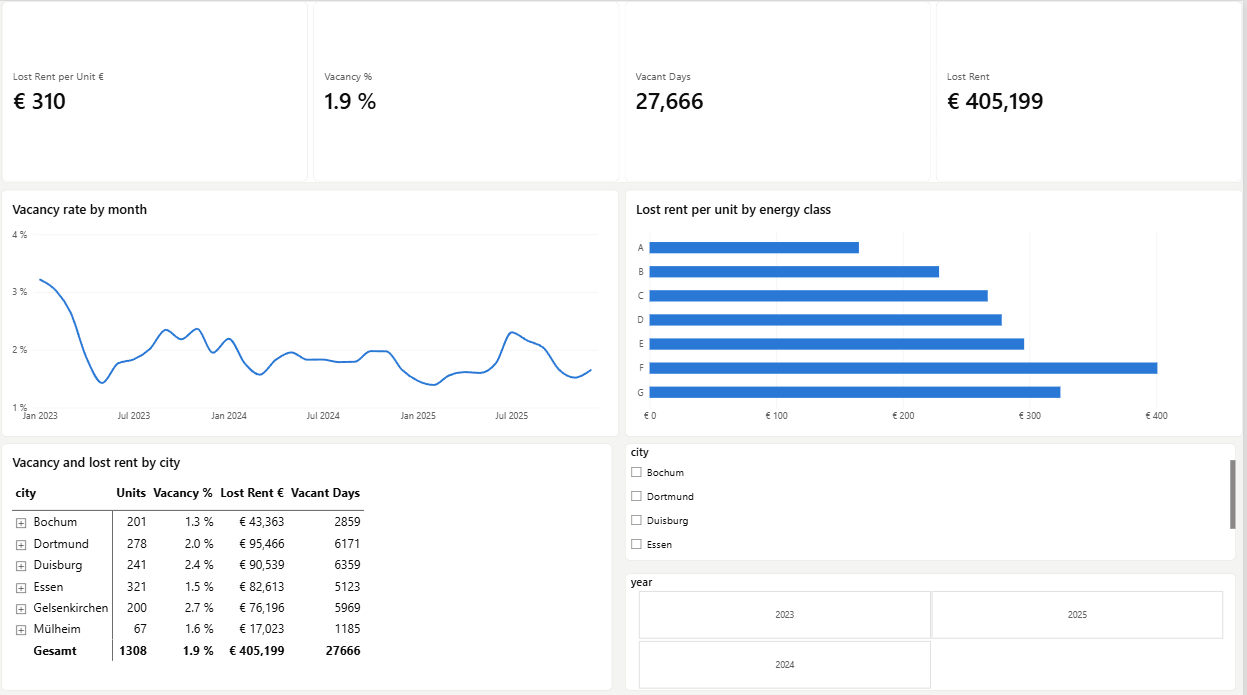

The dashboard page shown, as its layout file describes it:
{"tool":"powerbi","page":{"name":"page3_vacancy.png","canvas":[1920,1080],"ordinal":2},"visuals":[{"type":"cardVisual","fields":{"Data":["_Measures.Lost Rent per Unit €","_Measures.Vacancy %","_Measures.Vacant Days (Card)","_Measures.Lost Rent (Card)"]},"box":[10.3,0,1910.1,279.9],"z":0},{"type":"lineChart","title":"Vacancy rate by month","fields":{"Category":["dim_date.year_month"],"Y":["_Measures.Vacancy %"]},"box":[10,290,950,380],"z":1000},{"type":"barChart","title":"Lost rent per unit by energy class","fields":{"Category":["dim_property.energy_class"],"Y":["_Measures.Lost Rent per Unit €"]},"box":[970,290,950,380],"z":2000},{"type":"pivotTable","title":"Vacancy and lost rent by city","fields":{"Rows":["dim_property.city","dim_property.district"],"Values":["_Measures.Units","_Measures.Vacancy %","_Measures.Lost Rent €","_Measures.Vacant Days"]},"box":[10,680,940,380],"z":3000},{"type":"slicer","fields":{"Values":["dim_property.city"]},"box":[970,680,940,180],"z":4000},{"type":"slicer","fields":{"Values":["dim_date.year"]},"box":[970,880,940,180],"z":5000}]}

Visuals, with their boxes in screenshot pixels (x1, y1, x2, y2), scaled from the page's 1920x1080 canvas onto the 1247x695 screenshot:
cardVisual - _Measures.Lost Rent per Unit € x _Measures.Vacancy %: <bbox>7, 0, 1246, 180</bbox>
"Vacancy rate by month" lineChart: <bbox>6, 187, 624, 431</bbox>
"Lost rent per unit by energy class" barChart: <bbox>630, 187, 1246, 431</bbox>
"Vacancy and lost rent by city" pivotTable: <bbox>6, 438, 617, 682</bbox>
slicer - dim_property.city: <bbox>630, 438, 1241, 553</bbox>
slicer - dim_date.year: <bbox>630, 566, 1241, 682</bbox>
